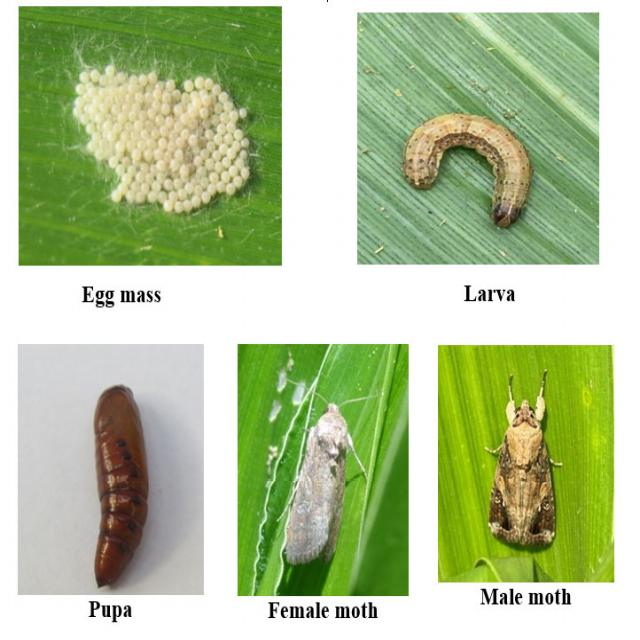cornborer-Adult-: (274, 383, 388, 572), (475, 367, 581, 570)
cornborer-Larva-: (397, 96, 552, 246)
